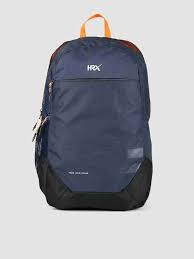backpack: (32, 12, 153, 210)
